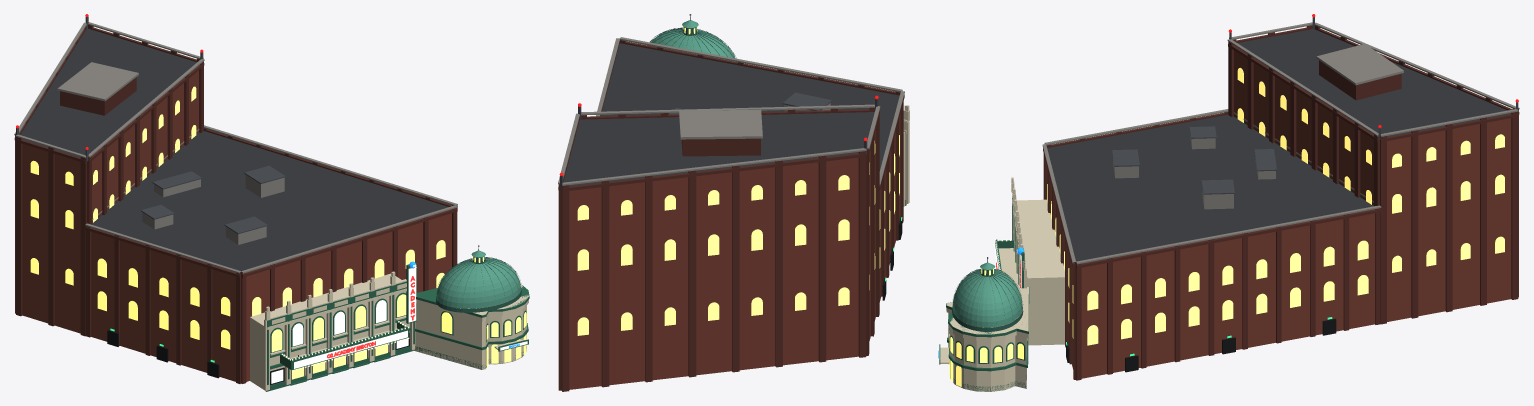
File: academy.glb
3 views of the same model, side by side, from view 1: azimuth 30°, elevation 25°; view 2: azimuth 150°, elevation 25°; view 3: azimuth 270°, elevation 25° (orthographic). The views are drawn at different scales.
Visible parts, largest first — view 1: Brick, Roof, BrickDark, Faience_Cream, Concrete, Emit_Window, Faience_Green, Copper_Verdigris, Metal, Emit_Sign, Copper_Dark, Emit_WindowCool (+1 smaller); view 2: Brick, Roof, BrickDark, Concrete, Emit_Window, Copper_Verdigris, Metal, Faience_Cream, Copper_Dark; view 3: Brick, Roof, BrickDark, Faience_Cream, Emit_Window, Concrete, Copper_Verdigris, Faience_Green, Metal, Copper_Dark, Dark.
Boxes of the visible parts, x1,y1,x2,y2 form: Brick: (22, 70, 451, 381); Roof: (20, 28, 448, 271); BrickDark: (14, 25, 457, 383); Faience_Cream: (250, 271, 528, 390); Concrete: (14, 22, 457, 273); Emit_Window: (30, 86, 527, 379); Faience_Green: (265, 262, 529, 391); Copper_Verdigris: (436, 250, 520, 308); Metal: (16, 16, 479, 356); Emit_Sign: (294, 264, 527, 368); Copper_Dark: (436, 256, 521, 312); Emit_WindowCool: (271, 300, 408, 383); Brick: (569, 113, 900, 389); Roof: (563, 43, 899, 186); BrickDark: (558, 40, 904, 391); Concrete: (558, 37, 904, 185); Emit_Window: (577, 27, 899, 335); Copper_Verdigris: (648, 20, 735, 61); Metal: (560, 14, 878, 189); Faience_Cream: (903, 105, 909, 206); Copper_Dark: (650, 27, 736, 58); Brick: (1046, 50, 1511, 378); Roof: (1047, 29, 1511, 263); BrickDark: (1043, 25, 1519, 380); Faience_Cream: (940, 177, 1064, 391); Emit_Window: (949, 68, 1504, 386); Concrete: (1042, 22, 1519, 264); Copper_Verdigris: (952, 262, 1022, 327); Faience_Green: (939, 198, 1029, 391); Metal: (987, 17, 1518, 262); Copper_Dark: (952, 269, 1023, 331); Dark: (1066, 318, 1336, 372).
Size of the model in its own units: 72.48 by 37.55 by 97.88.
